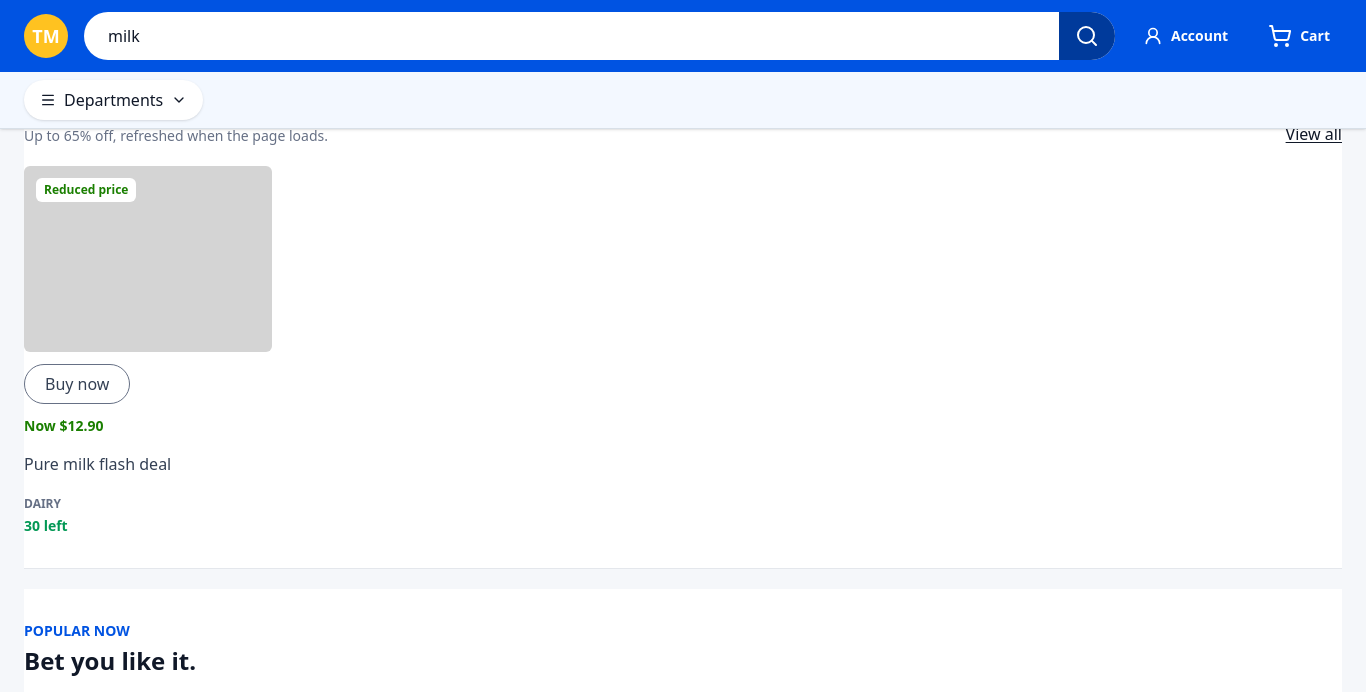
HomeView › loads flash sales on page render and purchases with default address
The width and height of the screenshot is (1366, 692).
(page scrolled)
Click the button with aria-label "Buy Pure milk flash deal". click: (77, 384)
box: left=24, top=364, right=130, bottom=404
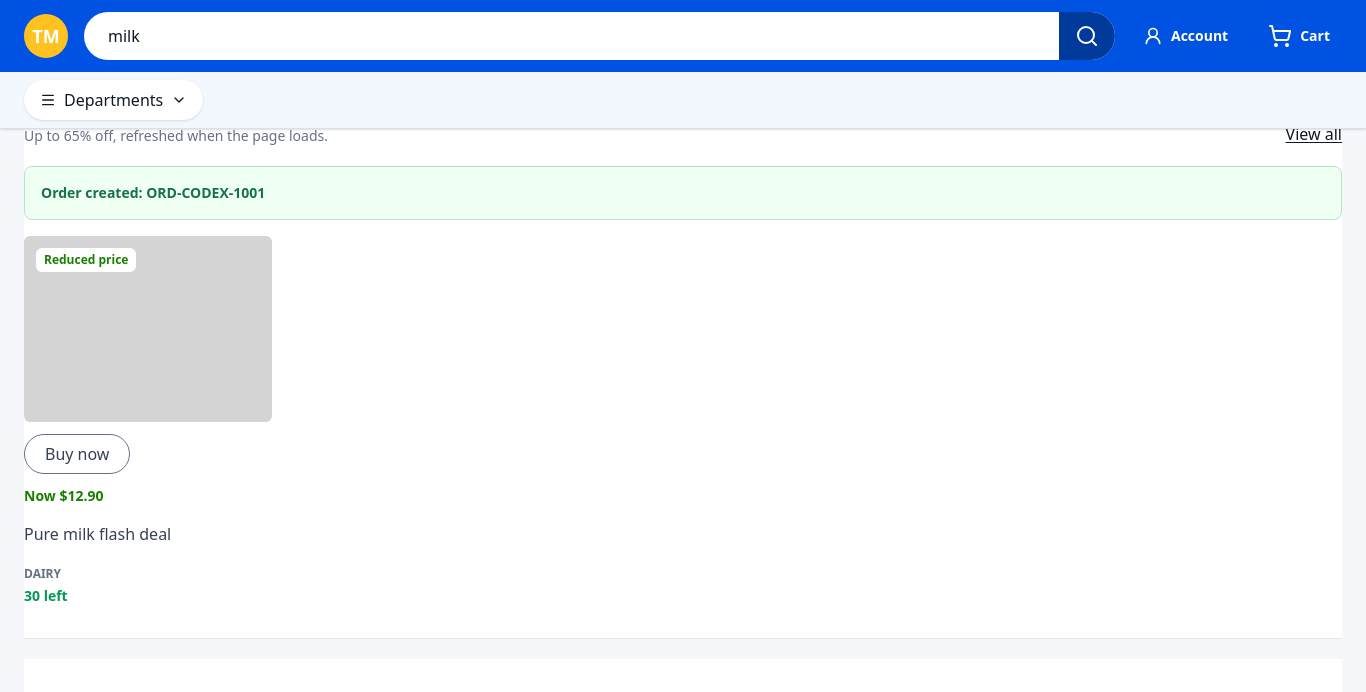
expect the text "Order created" is shown: met, box left=41, top=183, right=265, bottom=202
